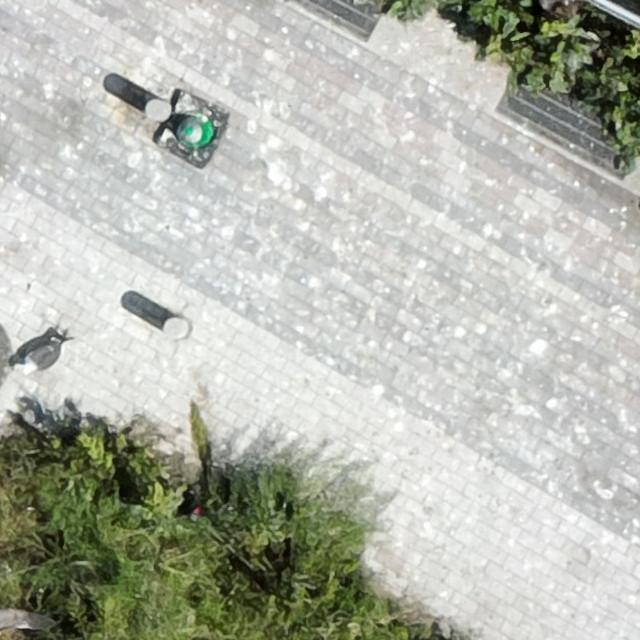umineko: (19, 336, 62, 376)
